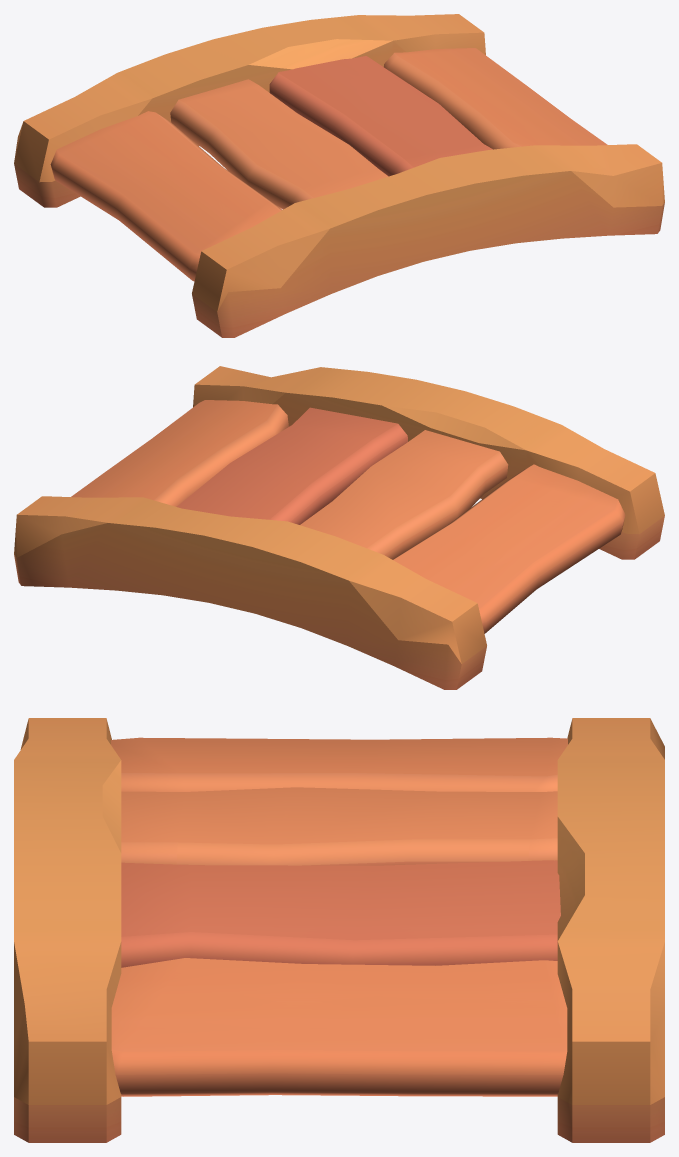
Rendered from Bridge_03.glb.
3 views of the same model, one above another, from view 1: azimuth 30°, elevation 25°; view 2: azimuth 150°, elevation 25°; view 3: azimuth 270°, elevation 25° (orthographic). The views are drawn at different scales.
Visible parts, largest first — view 1: Bridge_03; view 2: Bridge_03; view 3: Bridge_03.
Boxes of the visible parts, bbox=[...] form: Bridge_03: bbox=[14, 14, 664, 337]; Bridge_03: bbox=[14, 366, 664, 689]; Bridge_03: bbox=[14, 718, 664, 1142].
Bounding box in the file's own units: 4.33 × 0.9039 × 3.57.
Materials: 1 (1 with a texture image).
